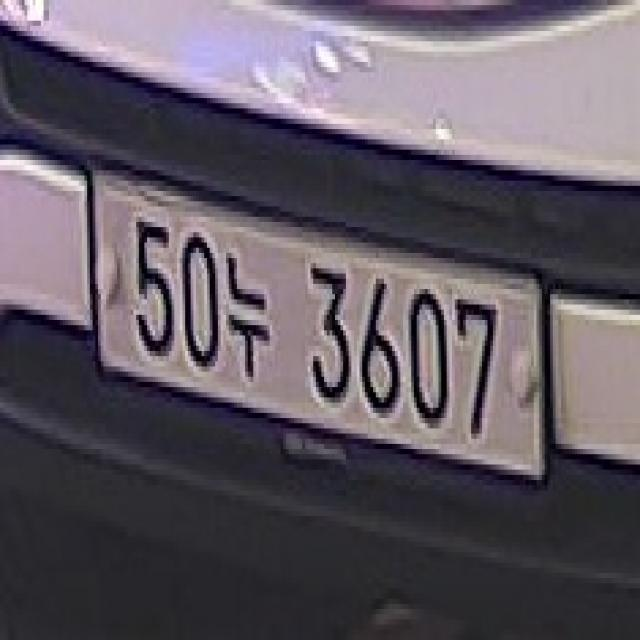0: (407, 284, 450, 441), (181, 220, 221, 380)
3: (303, 255, 354, 413)
5: (120, 212, 176, 368)
6: (356, 274, 404, 434)
7: (454, 293, 502, 447)
license_plate: (86, 162, 552, 481)
nu: (226, 242, 272, 388)
